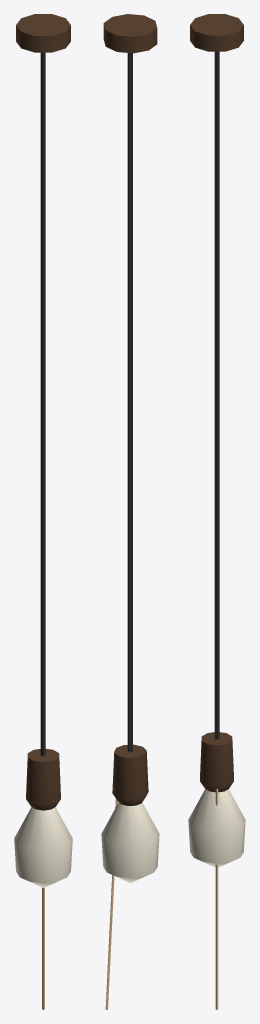
Rendered from SM_Lamp_Bulb.fbx.
3 views of the same model, side by side, from view 1: azimuth 90°, elevation 25°; view 2: azimuth 150°, elevation 25°; view 3: azimuth 270°, elevation 25° (orthographic). The views are drawn at different scales.
Parts seen in each view (by area): view 1: SM_Lamp_Bulb_1; view 2: SM_Lamp_Bulb_1; view 3: SM_Lamp_Bulb_1.
Boxes of the visible parts, <box> form: SM_Lamp_Bulb_1: <box>14,14,72,1009</box>; SM_Lamp_Bulb_1: <box>101,14,159,1009</box>; SM_Lamp_Bulb_1: <box>188,14,245,1009</box>.
Bounding box in the file's own units: 6.4 × 120 × 6.4.
